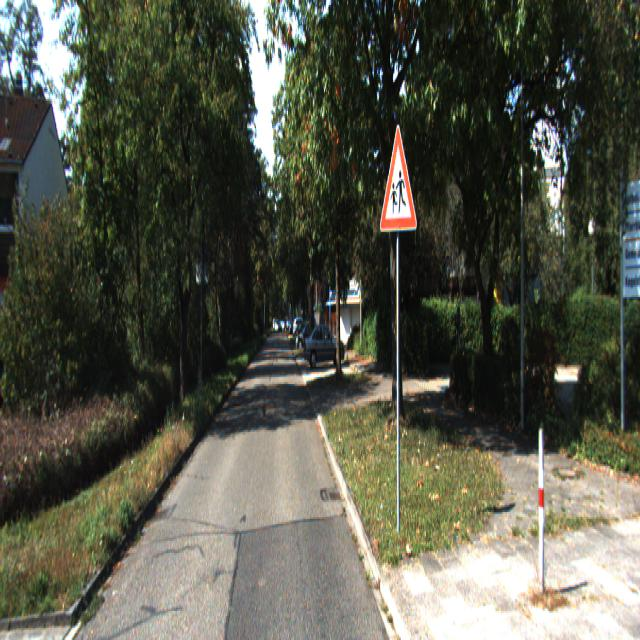Car: (303, 324, 344, 372)
